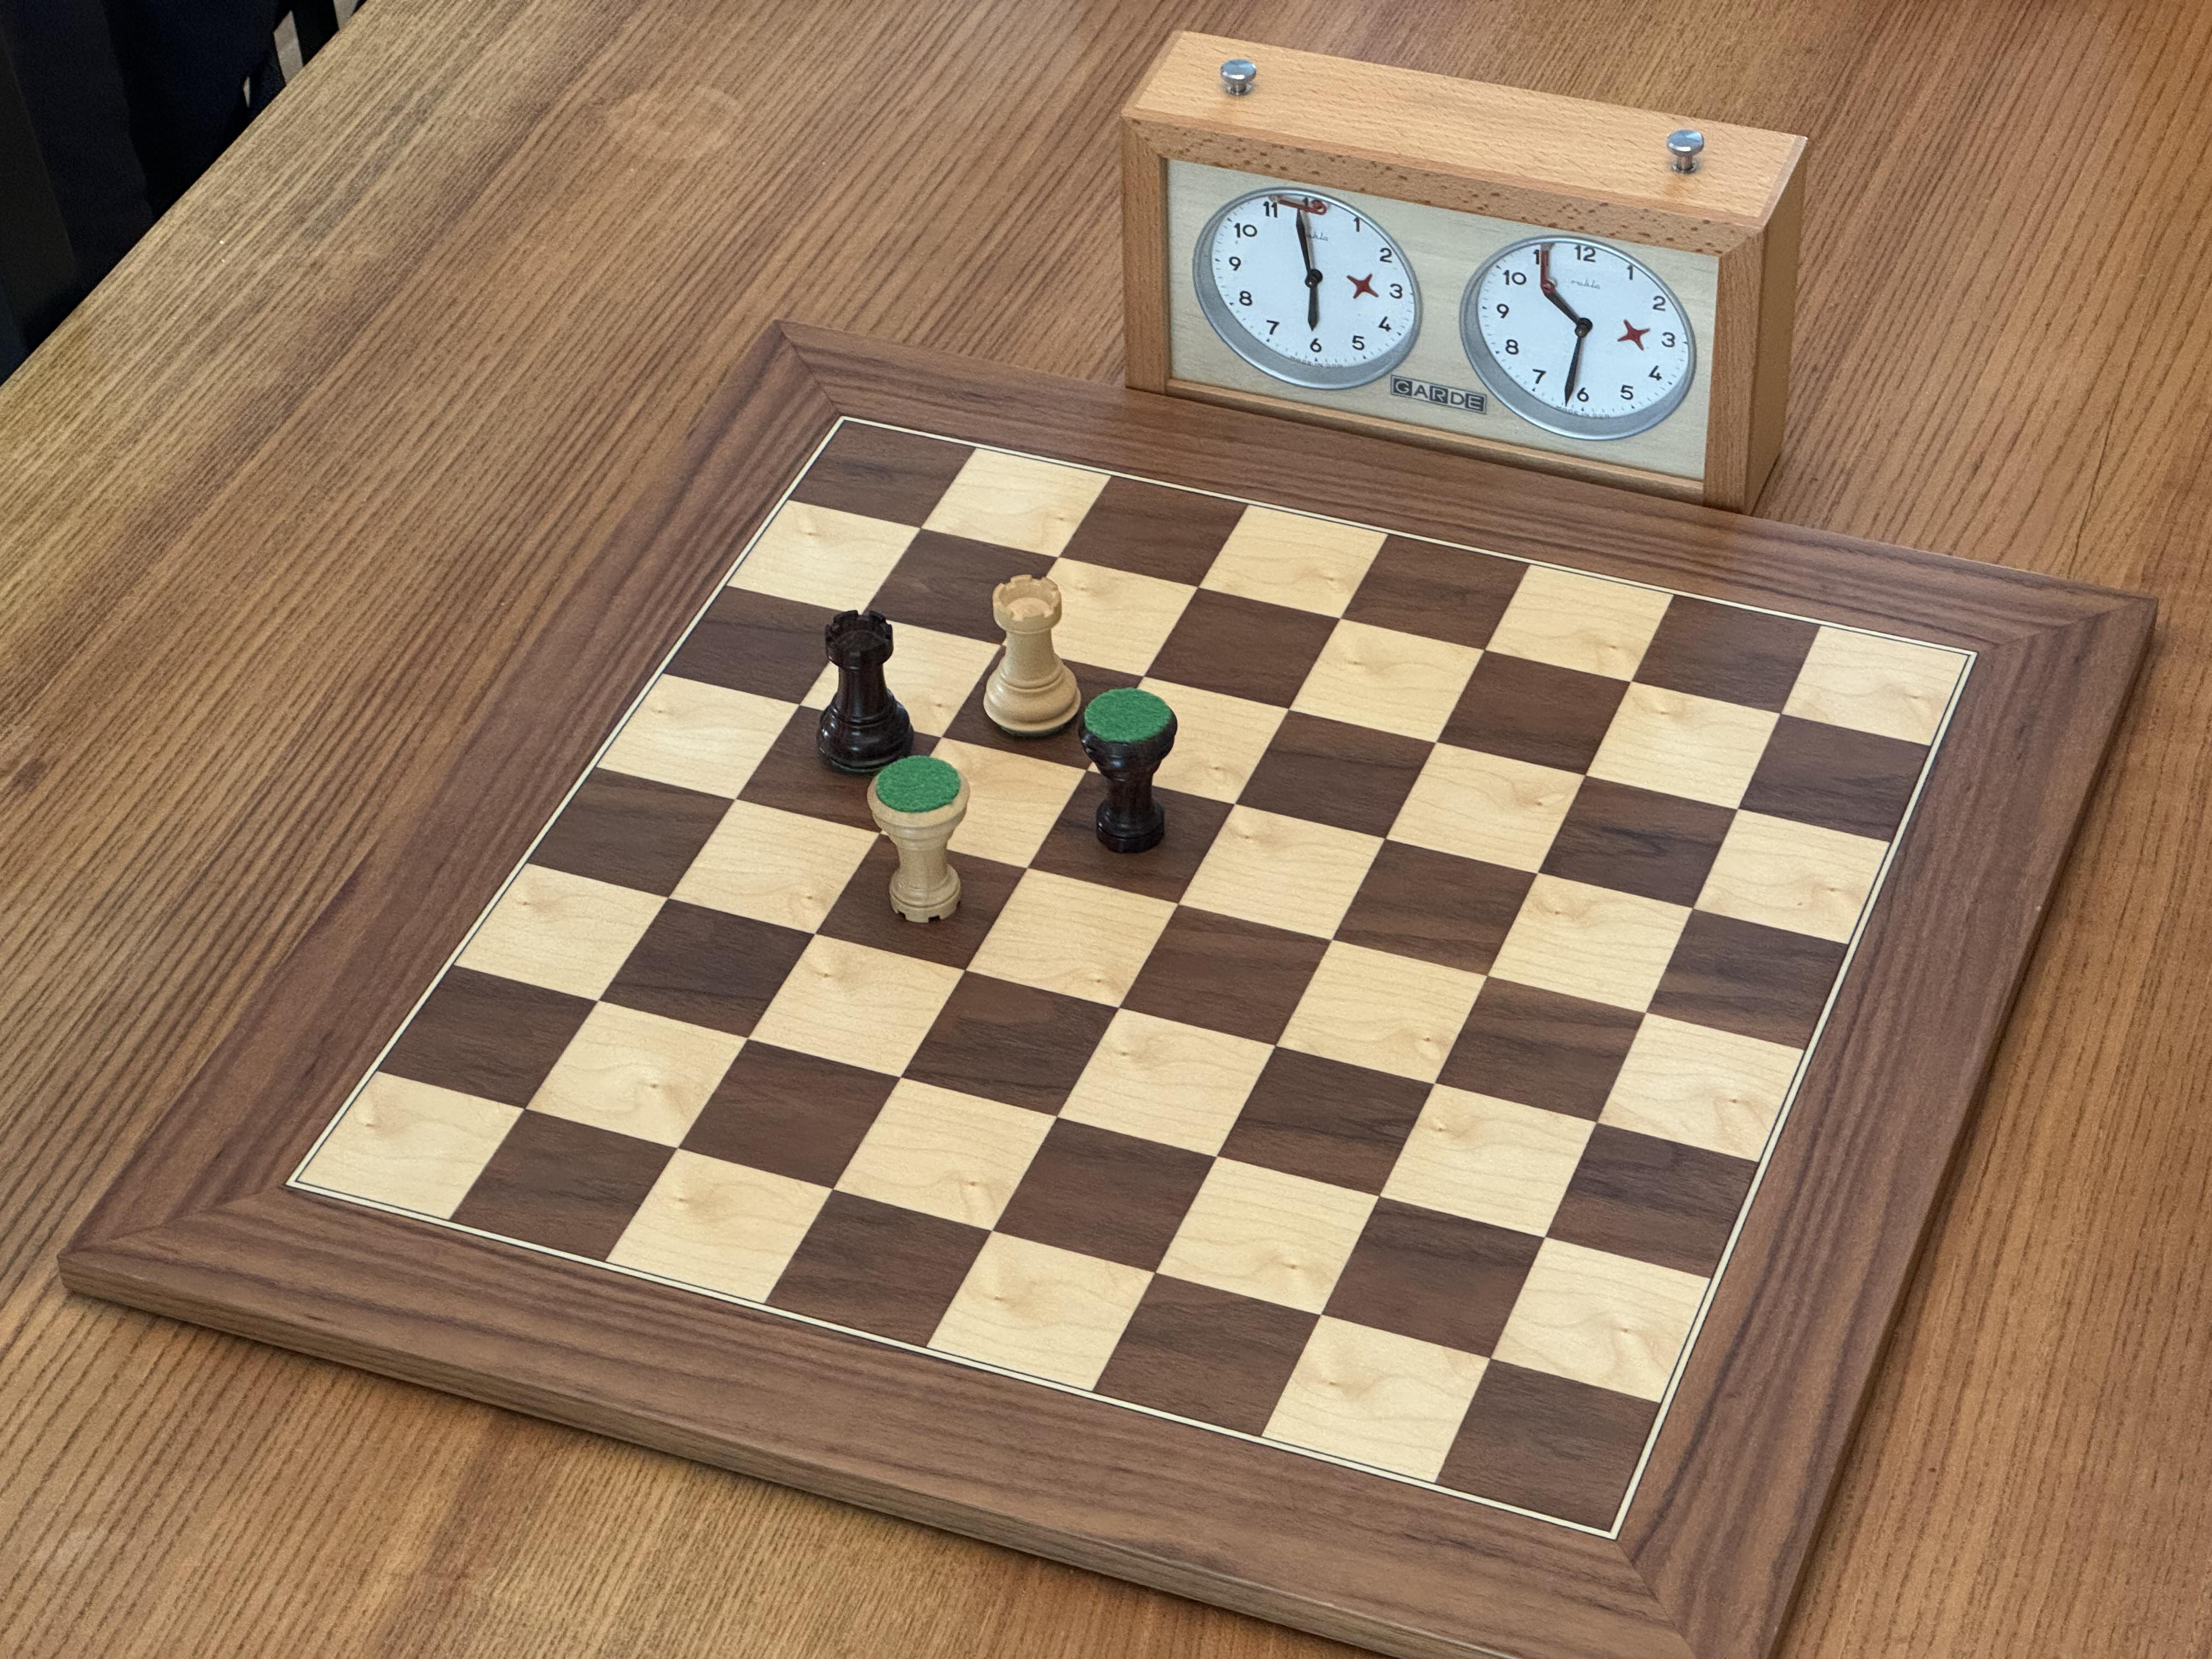Black Extra Queen: (1073, 685, 1184, 859)
White Extra Queen: (862, 753, 974, 927)
